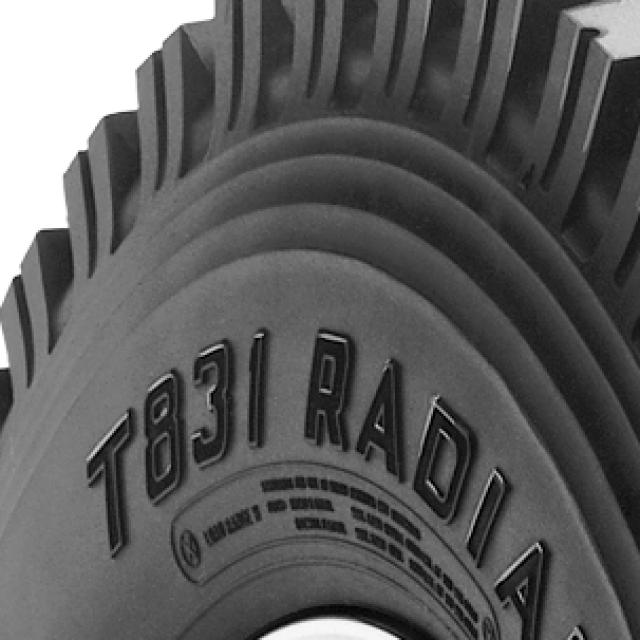Non-defective: (23, 286, 627, 596), (221, 0, 534, 273)
